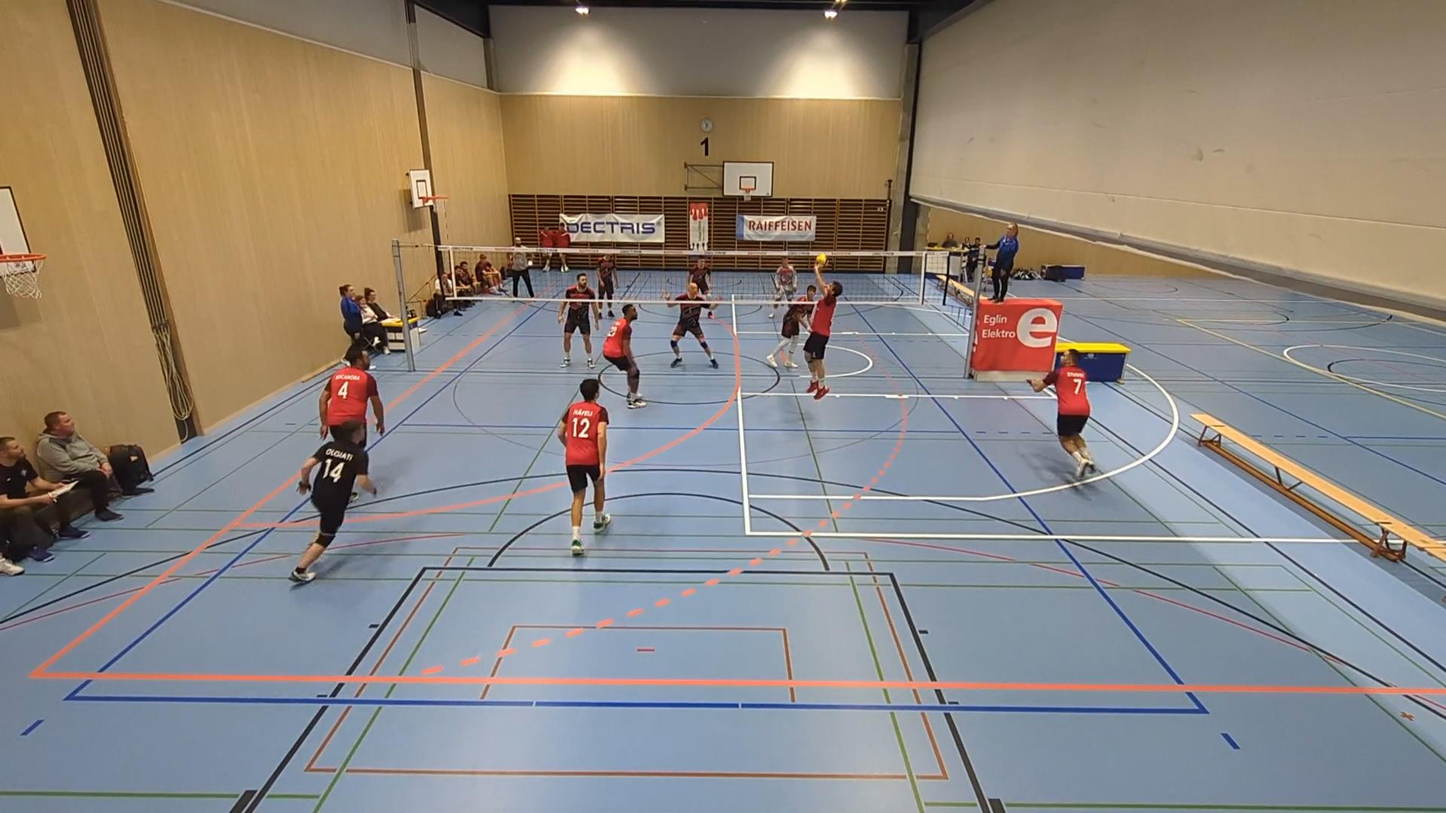alzata: (795, 255, 845, 402)
